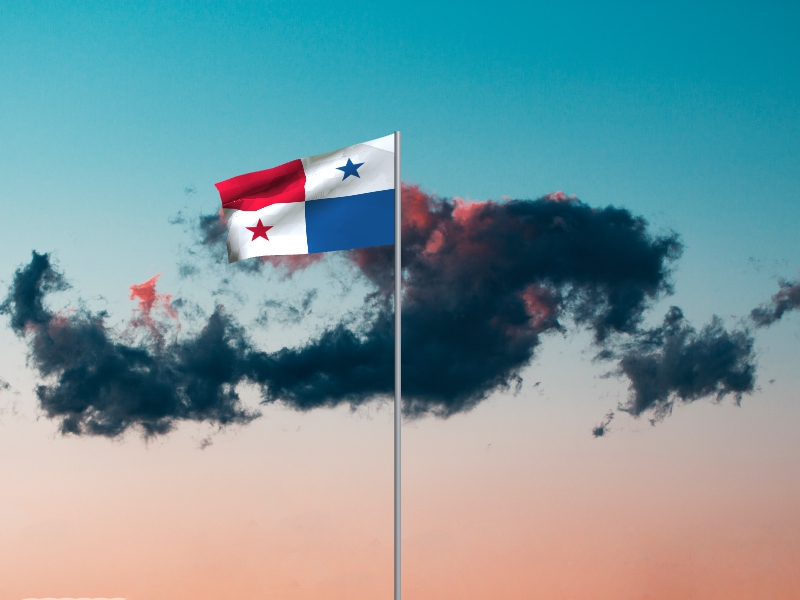pa: (214, 134, 395, 265)
